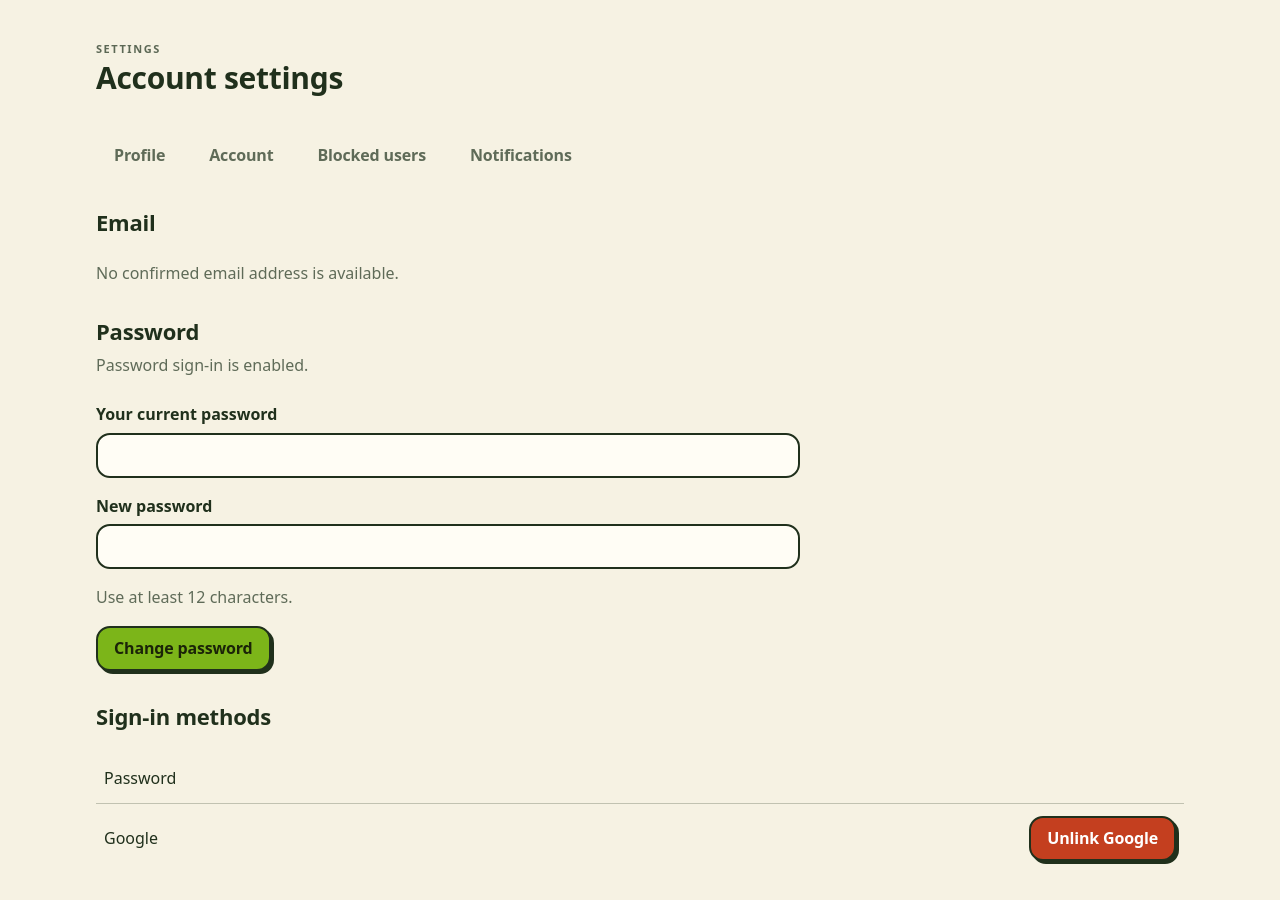
AuthMethods › shows the explicit API error when unlinking the last method_D137
Click the button "Unlink Google": x=1103, y=838 [1029,816,1176,861]
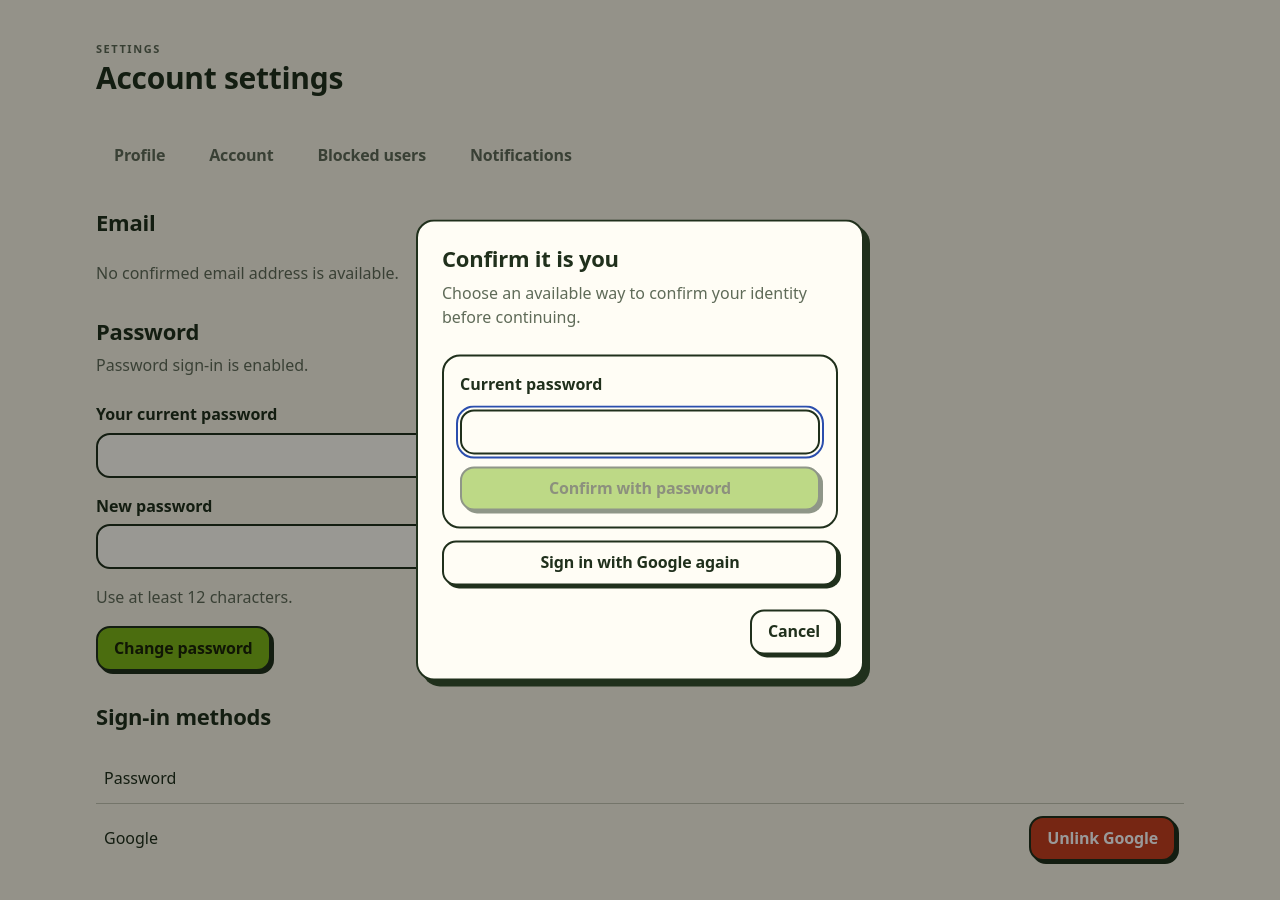
In the password field labelled "Current password": x=640, y=432 [460,409,820,454], type "correct-password"
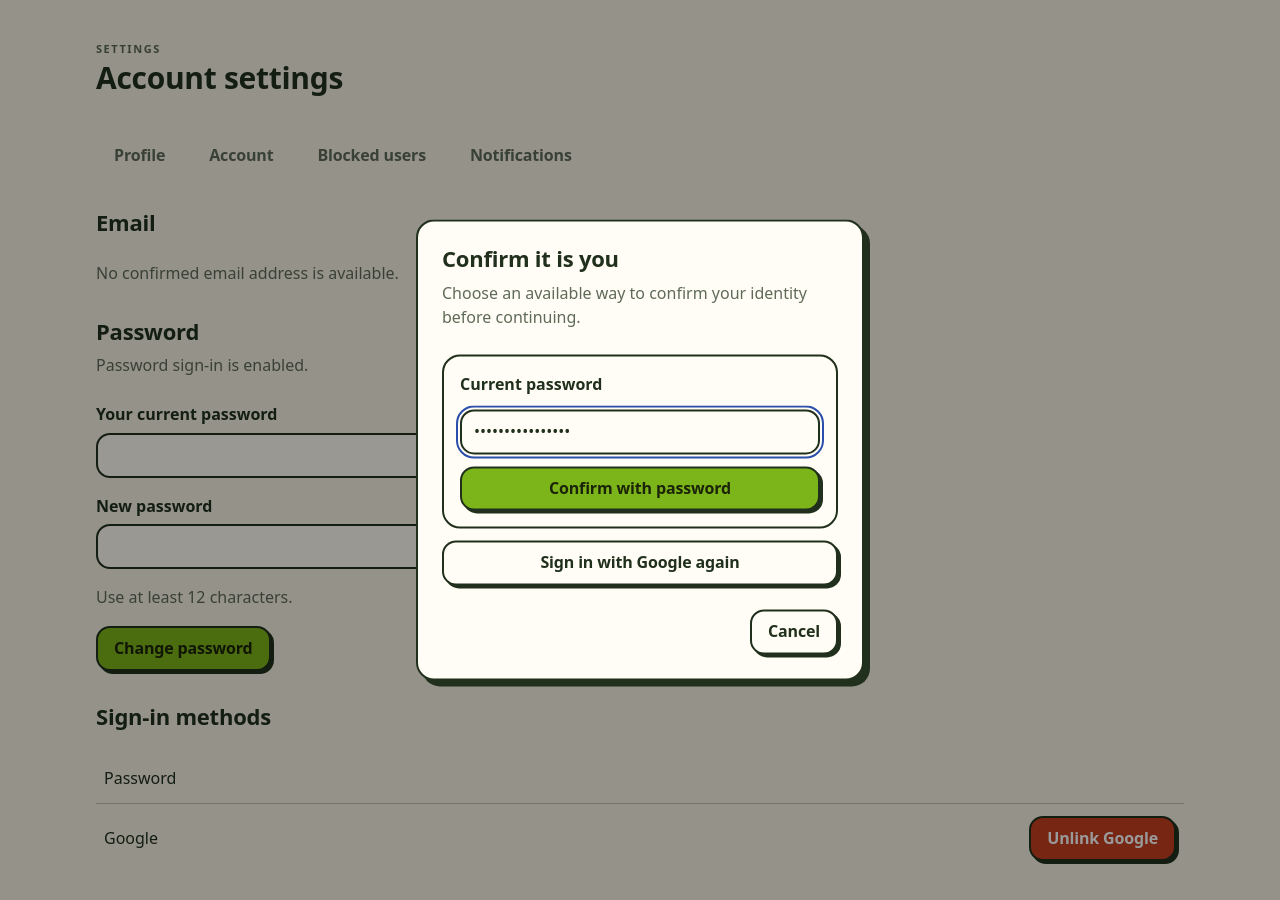
Click the button "Confirm with password": x=640, y=488 [460,466,820,511]
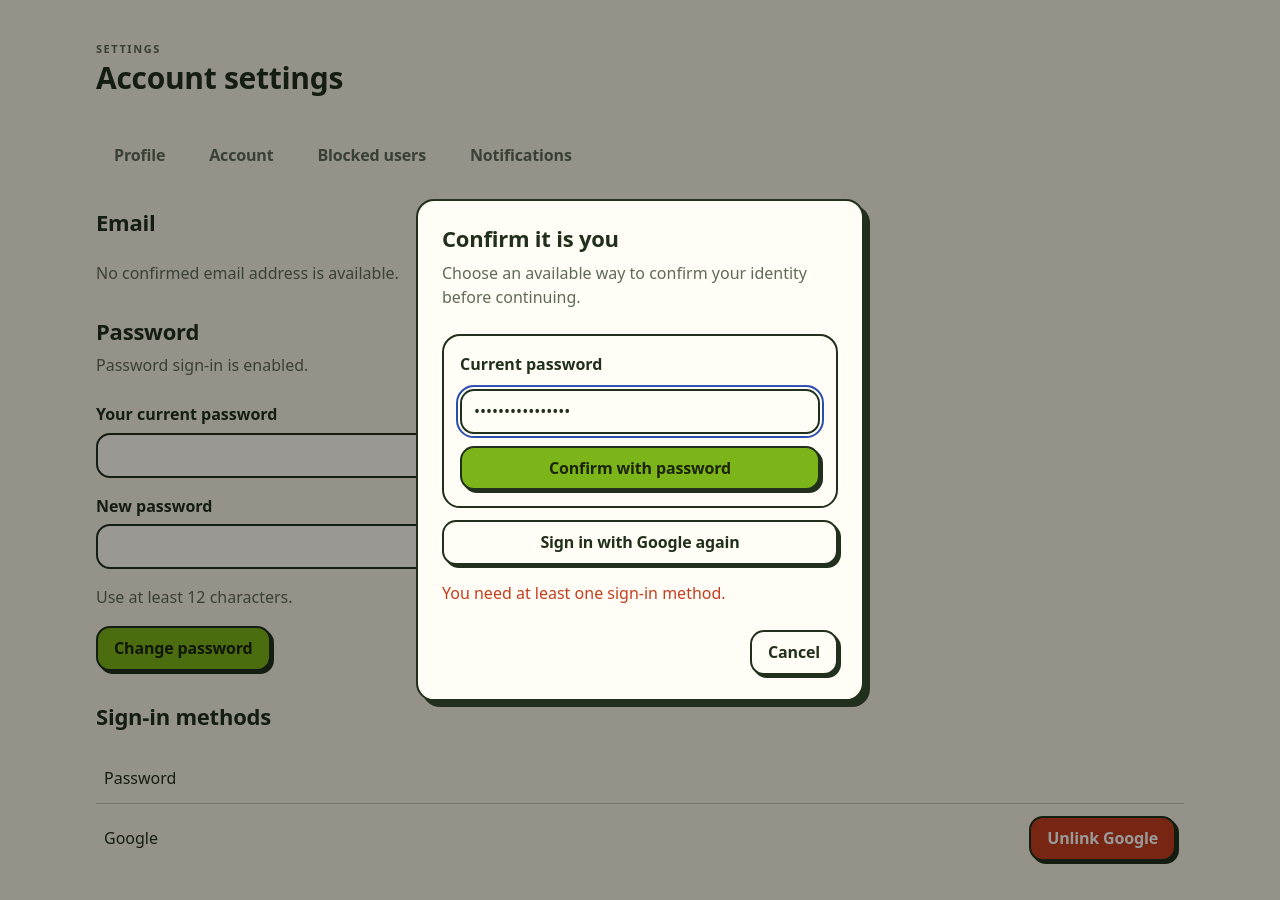
Check: the message reads "You need at least one sign-in method.", box [442,582,726,604]
